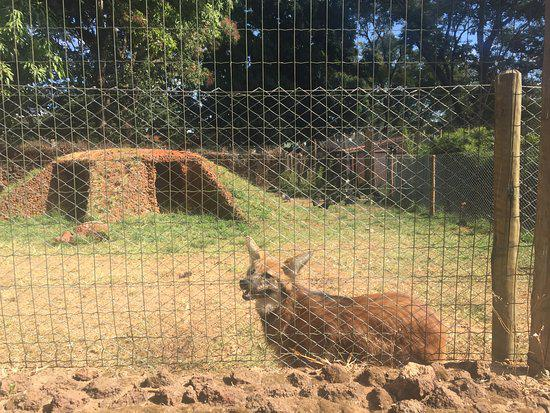LoboGuara: (237, 236, 453, 365)
